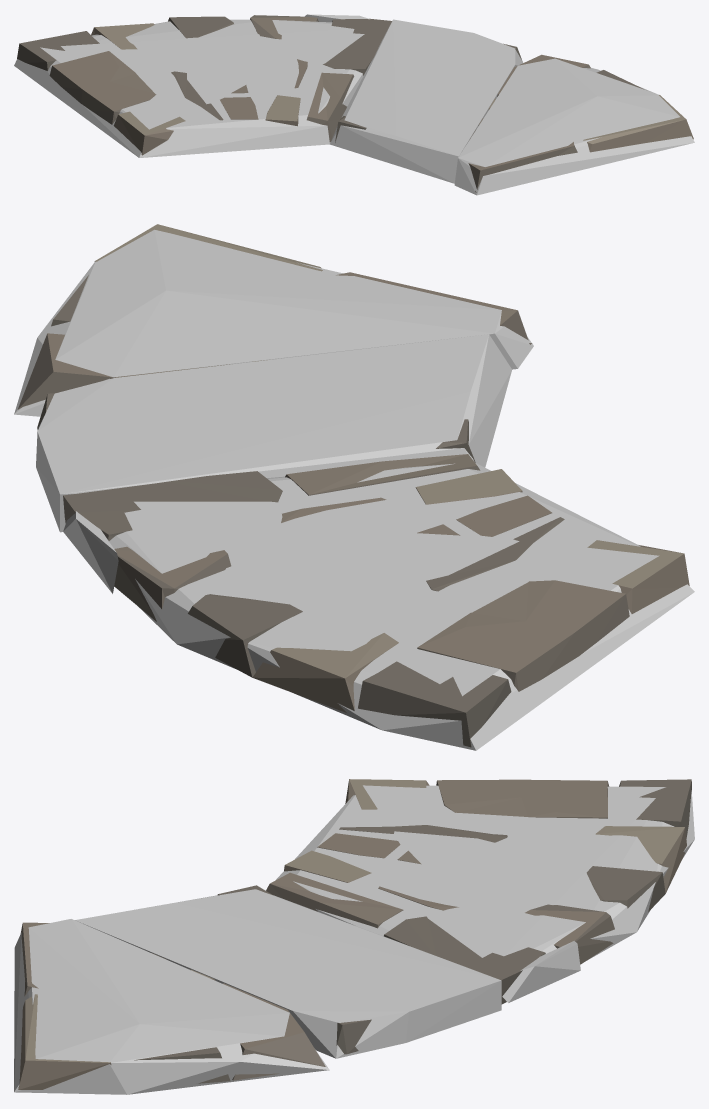
Rendered from SM_Env_Footpath_Corner_Large_02.fbx.
3 renders of one model, top to bottom at view 1: azimuth 30°, elevation 25°; view 2: azimuth 150°, elevation 25°; view 3: azimuth 270°, elevation 25°, orthographic. The views are drawn at different scales.
Visible parts, largest first — view 1: SM_Env_Footpath_Corner_Large_02_ConvexHulls, SM_Env_Footpath_Corner_Large_02; view 2: SM_Env_Footpath_Corner_Large_02_ConvexHulls, SM_Env_Footpath_Corner_Large_02; view 3: SM_Env_Footpath_Corner_Large_02_ConvexHulls, SM_Env_Footpath_Corner_Large_02.
Boxes of the visible parts, <box> form: SM_Env_Footpath_Corner_Large_02_ConvexHulls: <box>14,14,694,195</box>; SM_Env_Footpath_Corner_Large_02: <box>17,15,693,192</box>; SM_Env_Footpath_Corner_Large_02_ConvexHulls: <box>14,229,694,750</box>; SM_Env_Footpath_Corner_Large_02: <box>18,224,689,747</box>; SM_Env_Footpath_Corner_Large_02_ConvexHulls: <box>14,785,694,1094</box>; SM_Env_Footpath_Corner_Large_02: <box>18,779,691,1089</box>.
Bounding box in the file's own units: 520 × 516 × 28.61.
Materials: 2 (1 with a texture image).
